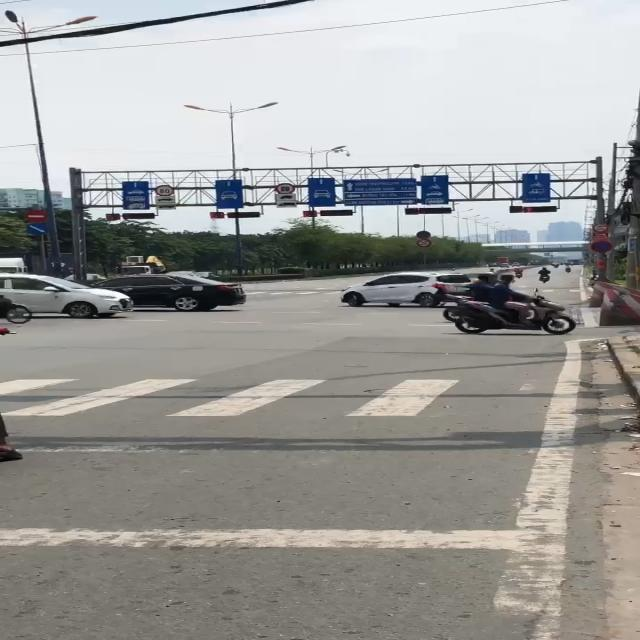Bien bao cam di nguoc chieu: (22, 208, 49, 222)
Bien bao huong phai di vong chuong ngai vat: (25, 223, 51, 235)
Bien bao toc do toi da cho phep: (272, 182, 298, 195), (154, 184, 176, 197)
